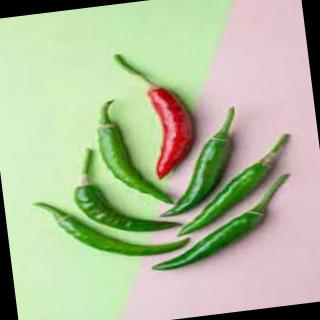Cabai Hijau: (97, 104, 171, 203), (177, 156, 271, 233), (152, 210, 268, 270), (160, 133, 234, 215), (55, 212, 186, 258), (68, 185, 181, 232)
Cabai Merah: (142, 77, 195, 182)
